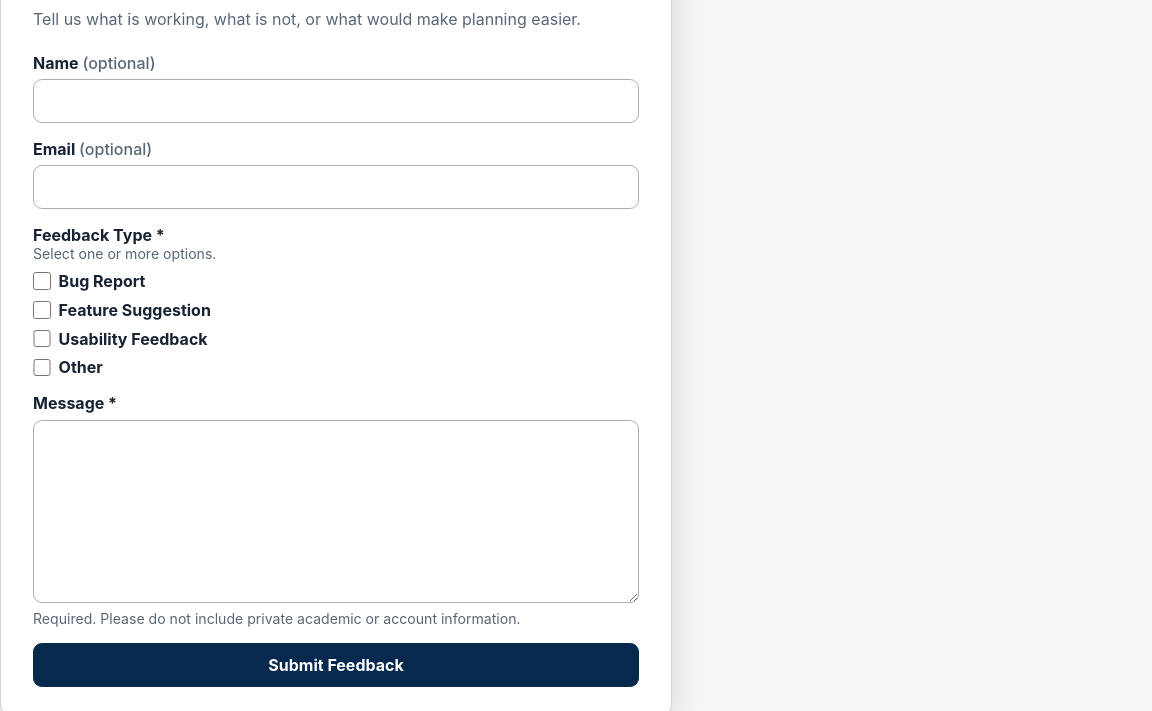
FeedbackForm › validates required fields before submitting
(page scrolled)
Click the button "Submit Feedback" at (336, 665), box [33,643,639,687]
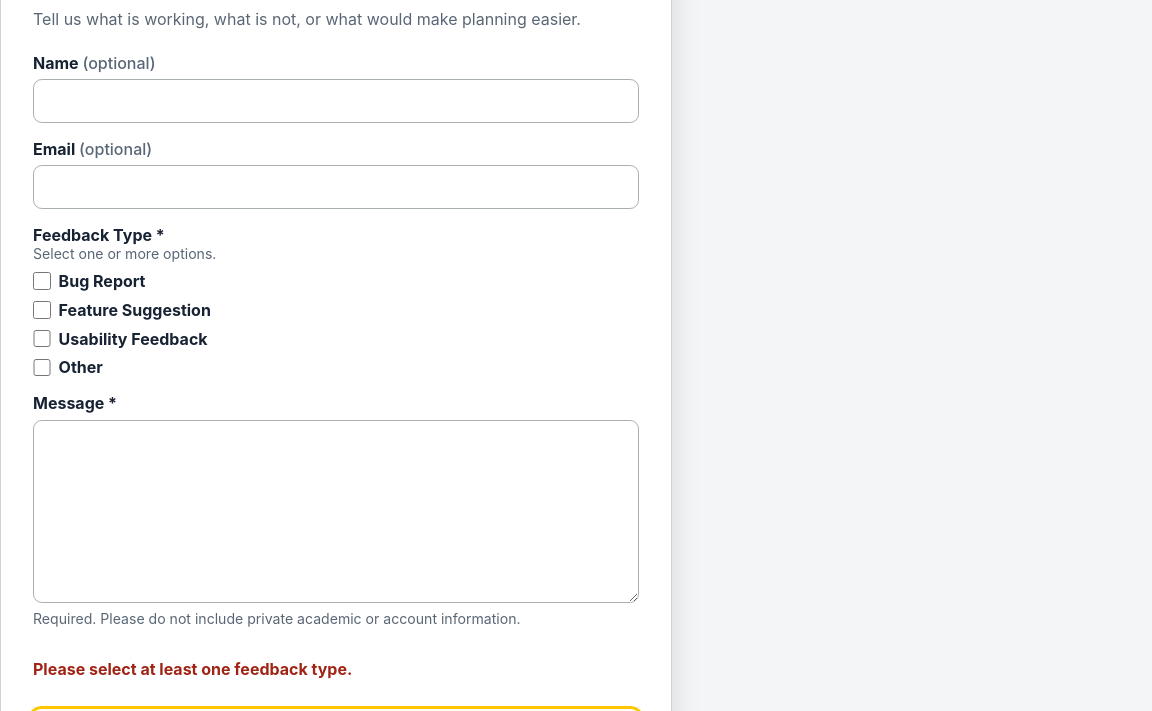
Expected: the message reads "Please select at least one feedback type.", [33,659,352,679]
